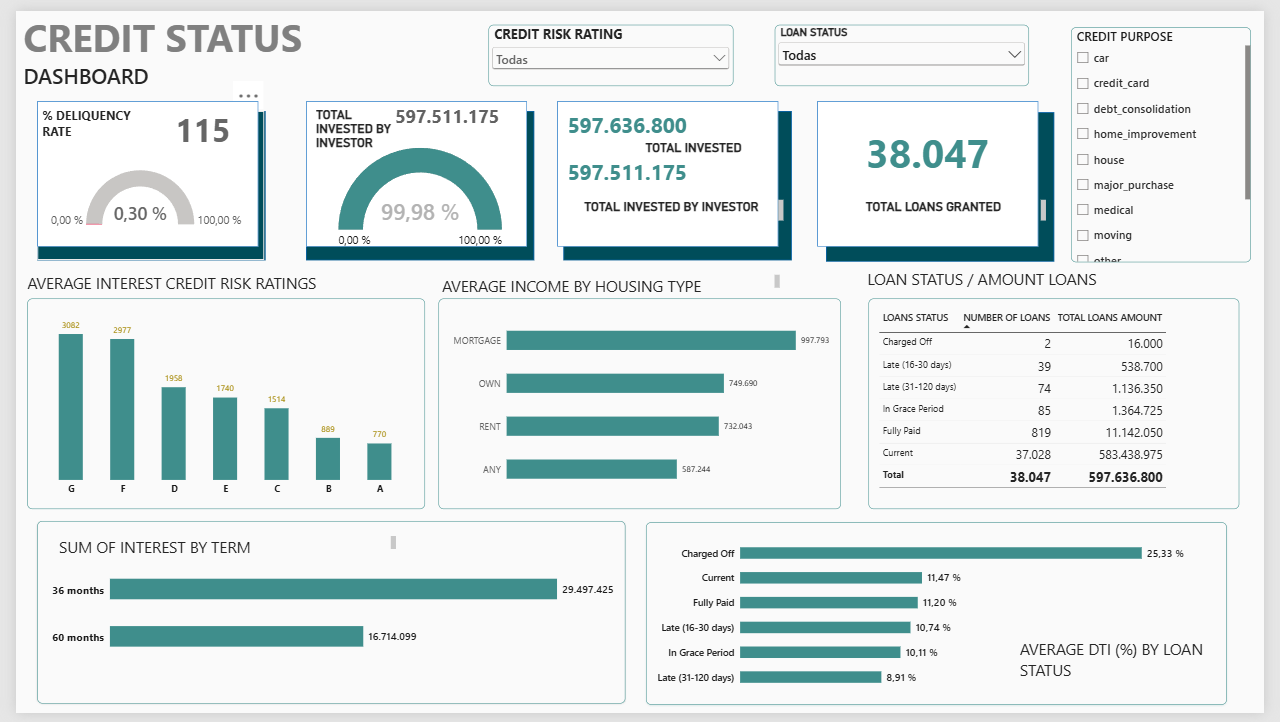

The dashboard page shown, as its layout file describes it:
{"tool":"powerbi","page":{"name":"Página 1","canvas":[1920,1080],"ordinal":0},"visuals":[{"type":"textbox","box":[10.9,0,501.3,137.5],"z":0},{"type":"shape","box":[32.6,153.8,351.1,229.8],"z":1000},{"type":"shape","box":[32.6,137.5,340.2,224.4],"z":2000},{"type":"cardVisual","fields":{"Data":["MEDIDAS.PrestamosMorosos"]},"box":[228,144.8,219,72.4],"z":3000},{"type":"gauge","fields":{"Y":["MEDIDAS.%Morosos"]},"box":[32.6,217.2,334.8,144.8],"z":4000},{"type":"shape","box":[447,153.8,351.1,229.8],"z":5000},{"type":"shape","box":[447,137.5,340.2,224.4],"z":6000},{"type":"textbox","box":[39.8,148.4,168.3,68.8],"z":7000},{"type":"shape","box":[841.5,153.8,351.1,229.8],"z":8000},{"type":"shape","box":[832.4,137.5,340.2,224.4],"z":9000},{"type":"cardVisual","fields":{"Data":["MEDIDAS.financiadoInversionita"]},"box":[568.2,126.7,219,68.8],"z":10000},{"type":"gauge","fields":{"Y":["Dim_Calendario.%FinanciadoInv"]},"box":[432.5,195.4,378.2,188.2],"z":11000},{"type":"cardVisual","fields":{"Data":["MEDIDAS.MontoTotalFinanciado"]},"box":[832.4,126.7,276.9,94.1],"z":12000},{"type":"cardVisual","fields":{"Data":["MEDIDAS.financiadoInversionita"]},"box":[832.4,206.3,255.2,83.2],"z":13000},{"type":"textbox","box":[872.3,199.1,338.4,43.4],"z":14000},{"type":"textbox","box":[841.5,289.5,338.4,43.4],"z":15000},{"type":"shape","box":[1246.9,155.6,351.1,229.8],"z":16000},{"type":"shape","box":[1232.4,137.5,340.2,224.4],"z":17000},{"type":"cardVisual","fields":{"Data":["MEDIDAS.CONTEO_REGISTROS"]},"box":[1261.3,115.8,282.3,202.7],"z":18000},{"type":"textbox","box":[1246.9,289.5,338.4,43.4],"z":19000},{"type":"columnChart","fields":{"Category":["analisisProyectoLimpio.grade"],"Y":["Avg(analisisProyectoLimpio.int_rate)"]},"box":[18.1,441.6,611.7,323.9],"z":20000},{"type":"textbox","box":[18.1,401.7,494,43.4],"z":21000},{"type":"barChart","fields":{"Category":["analisisProyectoLimpio.home_ownership"],"Y":["Avg(analisisProyectoLimpio.annual_inc)"]},"box":[649.7,441.6,618.9,323.9],"z":22000},{"type":"textbox","box":[655.1,405.4,519.4,36.2],"z":23000},{"type":"pivotTable","fields":{"Rows":["analisisProyectoLimpio.loan_status"],"Values":["CountNonNull(analisisProyectoLimpio.loan_amnt)","Sum(analisisProyectoLimpio.loan_amnt)1"]},"box":[1312,441.6,570,323.9],"z":24000},{"type":"textbox","box":[1310.2,396.3,468.7,88.7],"z":25000},{"type":"textbox","box":[461.5,148.4,143,132.1],"z":26000},{"type":"slicer","fields":{"Values":["analisisProyectoLimpio.loan_status"]},"box":[1167.2,21.7,390.9,94.1],"z":27000},{"type":"slicer","fields":{"Values":["analisisProyectoLimpio.purpose"]},"box":[1623.3,25.3,276.9,361.9],"z":28000},{"type":"slicer","fields":{"Values":["analisisProyectoLimpio.grade"]},"box":[727.5,21.7,376.4,94.1],"z":29000},{"type":"clusteredBarChart","title":"SUM OF INTEREST BY","fields":{"Category":["analisisProyectoLimpio.term"],"Y":["Sum(analisisProyectoLimpio.int_rate)"]},"box":[32.6,785.4,904.8,280.5],"z":30000},{"type":"textbox","box":[65.1,807.1,519.4,36.2],"z":32000},{"type":"barChart","fields":{"Category":["analisisProyectoLimpio.loan_status"],"Y":["analisisProyectoLimpio.% dti"]},"box":[970,787.2,894,280.5],"z":33000},{"type":"textbox","box":[1543.6,964.5,307.6,81.4],"z":33001}]}

Visuals, with their boxes in screenshot pixels (x1, y1, x2, y2), scaled from the page's 1920x1080 canvas onto the 1280x722 screenshot:
textbox: (left=7, top=0, right=341, bottom=92)
shape: (left=22, top=103, right=256, bottom=256)
shape: (left=22, top=92, right=249, bottom=242)
cardVisual - MEDIDAS.PrestamosMorosos: (left=152, top=97, right=298, bottom=145)
gauge - MEDIDAS.%Morosos: (left=22, top=145, right=245, bottom=242)
shape: (left=298, top=103, right=532, bottom=256)
shape: (left=298, top=92, right=525, bottom=242)
textbox: (left=27, top=99, right=139, bottom=145)
shape: (left=561, top=103, right=795, bottom=256)
shape: (left=555, top=92, right=782, bottom=242)
cardVisual - MEDIDAS.financiadoInversionita: (left=379, top=85, right=525, bottom=131)
gauge - Dim_Calendario.%FinanciadoInv: (left=288, top=131, right=540, bottom=256)
cardVisual - MEDIDAS.MontoTotalFinanciado: (left=555, top=85, right=740, bottom=148)
cardVisual - MEDIDAS.financiadoInversionita: (left=555, top=138, right=725, bottom=194)
textbox: (left=582, top=133, right=807, bottom=162)
textbox: (left=561, top=194, right=787, bottom=223)
shape: (left=831, top=104, right=1065, bottom=258)
shape: (left=822, top=92, right=1048, bottom=242)
cardVisual - MEDIDAS.CONTEO_REGISTROS: (left=841, top=77, right=1029, bottom=213)
textbox: (left=831, top=194, right=1057, bottom=223)
columnChart - analisisProyectoLimpio.grade x Avg(analisisProyectoLimpio.int_rate): (left=12, top=295, right=420, bottom=512)
textbox: (left=12, top=269, right=341, bottom=298)
barChart - analisisProyectoLimpio.home_ownership x Avg(analisisProyectoLimpio.annual_inc): (left=433, top=295, right=846, bottom=512)
textbox: (left=437, top=271, right=783, bottom=295)
pivotTable - analisisProyectoLimpio.loan_status x CountNonNull(analisisProyectoLimpio.loan_amnt): (left=875, top=295, right=1255, bottom=512)
textbox: (left=873, top=265, right=1186, bottom=324)
textbox: (left=308, top=99, right=403, bottom=188)
slicer - analisisProyectoLimpio.loan_status: (left=778, top=15, right=1039, bottom=77)
slicer - analisisProyectoLimpio.purpose: (left=1082, top=17, right=1267, bottom=259)
slicer - analisisProyectoLimpio.grade: (left=485, top=15, right=736, bottom=77)
"SUM OF INTEREST BY" clusteredBarChart: (left=22, top=525, right=625, bottom=713)
textbox: (left=43, top=540, right=390, bottom=564)
barChart - analisisProyectoLimpio.loan_status x analisisProyectoLimpio.% dti: (left=647, top=526, right=1243, bottom=714)
textbox: (left=1029, top=645, right=1234, bottom=699)
